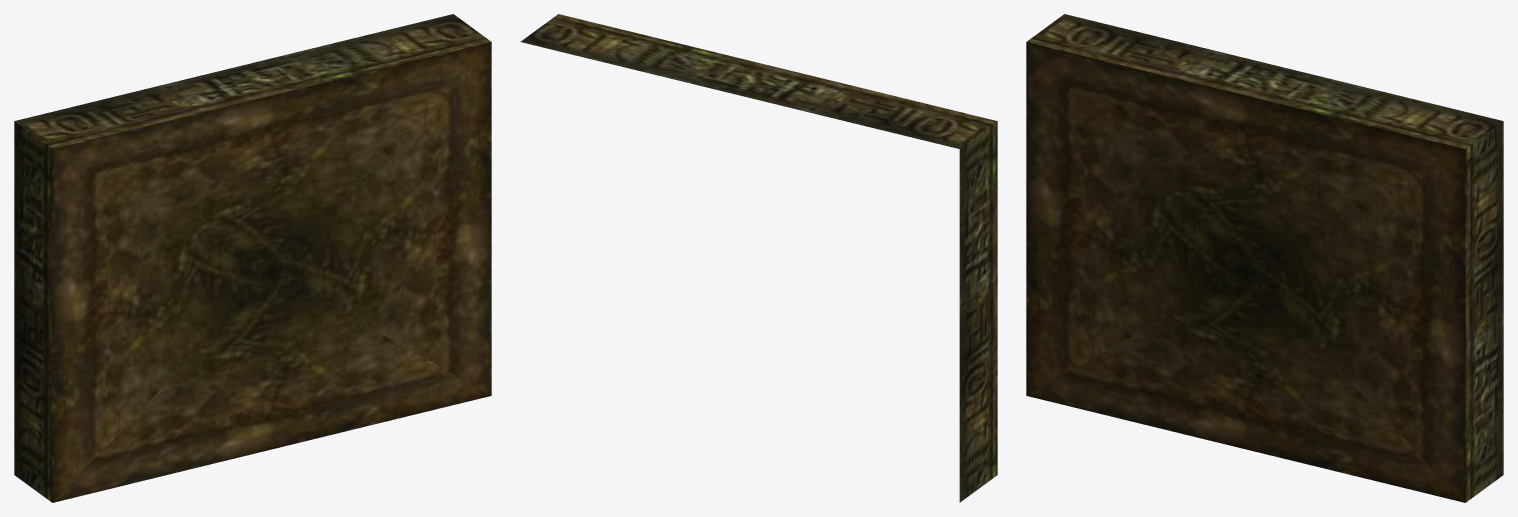
The picture shows the model from 3 angles, left to right: view 1: azimuth 30°, elevation 25°; view 2: azimuth 150°, elevation 25°; view 3: azimuth 330°, elevation 25°; orthographic projection.
Visible parts, largest first — view 1: model_Object51; view 2: model_Object51; view 3: model_Object51.
Part boxes in pixels (bbox=[...]): model_Object51: bbox=[14, 14, 491, 502]; model_Object51: bbox=[520, 14, 997, 502]; model_Object51: bbox=[1026, 14, 1503, 502].
Bounding box in the file's own units: 5.14 × 3.95 × 0.7737.
Materials: 2 (2 with a texture image).
